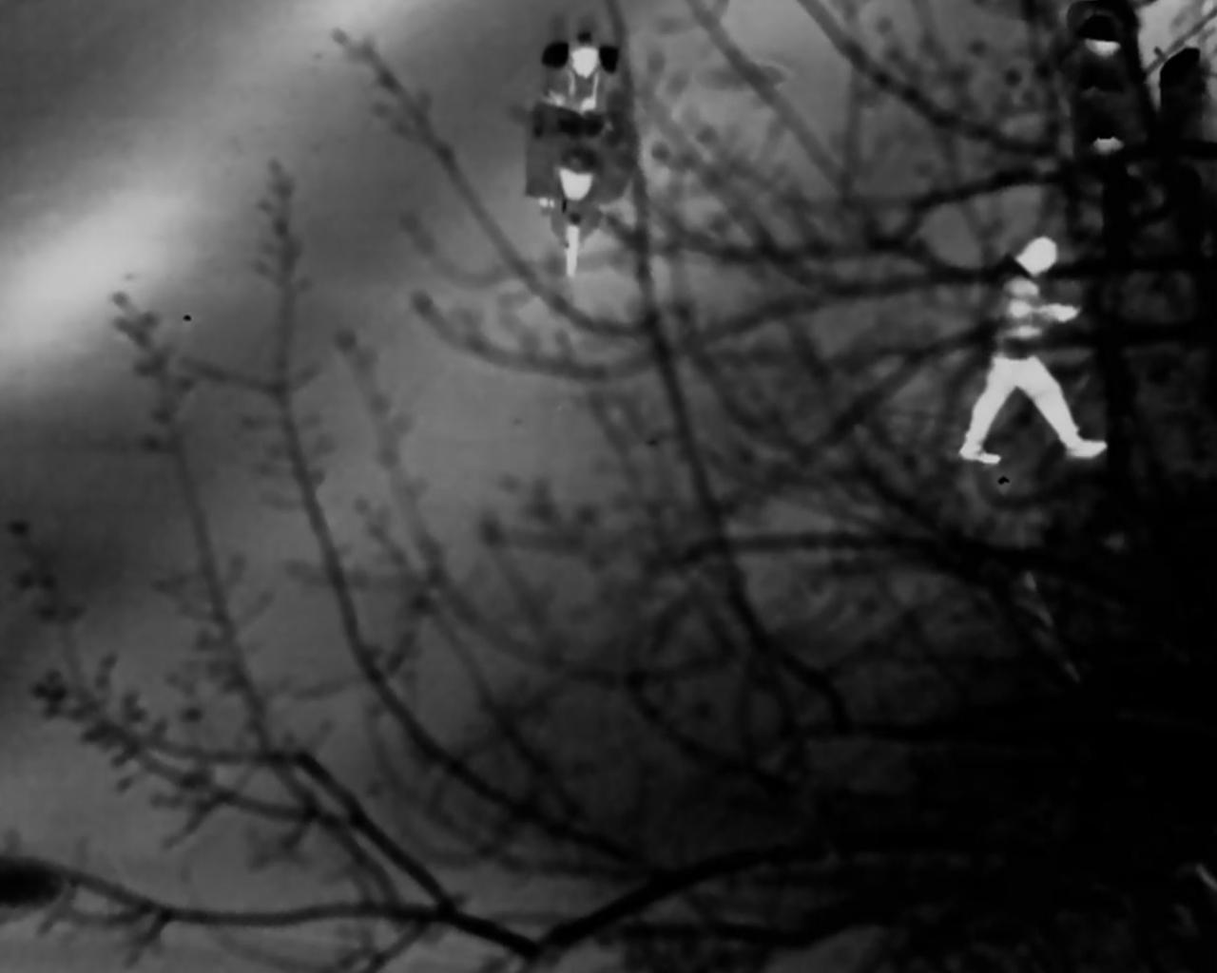person: (965, 234, 1105, 463), (544, 23, 621, 214)
